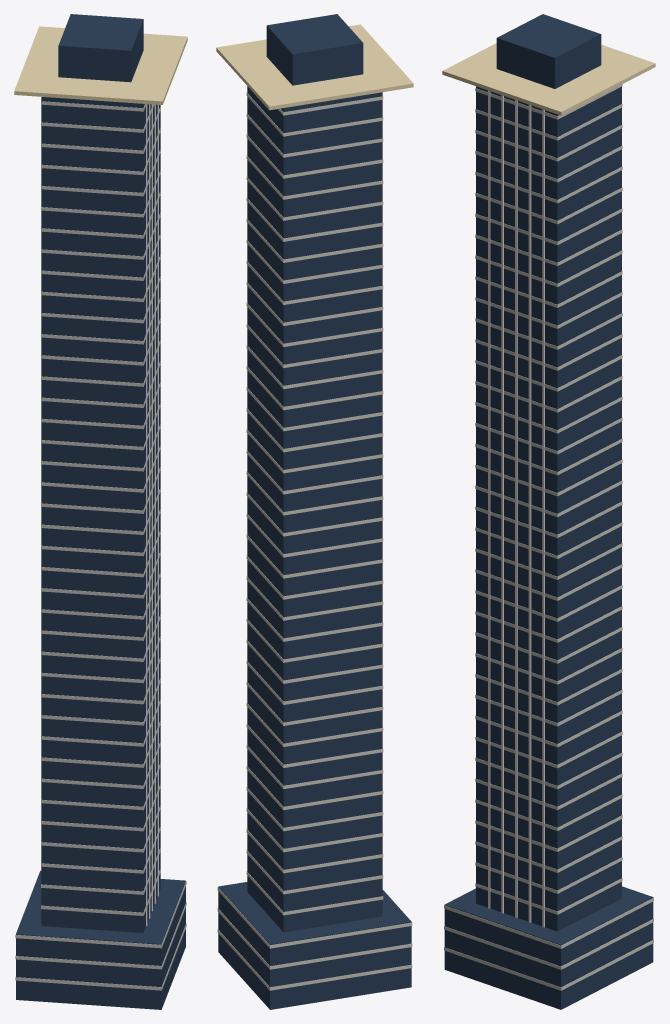
Rendered from mbk-tower.glb.
3 views of the same model, side by side, from view 1: azimuth 30°, elevation 25°; view 2: azimuth 150°, elevation 25°; view 3: azimuth 270°, elevation 25° (orthographic).
Parts seen in each view (by area): view 1: B_532853124_mbk-tower, B_532853124_mbk-tower_gold, mullion.025, mullion.026, mullion.028, mullion.029, mullion.027, band.456, band.455, band.454, band.467, band.473 (+37 smaller); view 2: B_532853124_mbk-tower, B_532853124_mbk-tower_gold, band.455, band.454, band.456, band.460, band.459, band.461, band.475, band.478, band.479, band.465 (+31 smaller); view 3: B_532853124_mbk-tower, B_532853124_mbk-tower_gold, mullion.028, mullion.026, mullion.025, mullion.029, mullion.027, band.454, band.455, band.456, band.475, band.460 (+36 smaller).
Part boxes in pixels (bbox=[...]): B_532853124_mbk-tower: bbox=[16, 14, 185, 1009]; B_532853124_mbk-tower_gold: bbox=[14, 26, 187, 104]; mullion.025: bbox=[146, 104, 147, 926]; mullion.026: bbox=[149, 104, 150, 918]; mullion.028: bbox=[154, 104, 155, 903]; mullion.029: bbox=[157, 105, 158, 896]; mullion.027: bbox=[151, 104, 152, 911]; band.456: bbox=[15, 881, 186, 948]; band.455: bbox=[15, 902, 186, 969]; band.454: bbox=[15, 923, 186, 990]; band.467: bbox=[41, 656, 160, 704]; band.473: bbox=[41, 529, 160, 577]; B_532853124_mbk-tower: bbox=[218, 14, 411, 1009]; B_532853124_mbk-tower_gold: bbox=[216, 24, 413, 110]; band.455: bbox=[217, 908, 412, 969]; band.454: bbox=[217, 929, 412, 990]; band.456: bbox=[217, 887, 412, 948]; band.460: bbox=[246, 808, 383, 852]; band.459: bbox=[246, 829, 383, 873]; band.461: bbox=[246, 787, 383, 831]; band.475: bbox=[246, 492, 383, 536]; band.478: bbox=[246, 429, 383, 473]; band.479: bbox=[246, 408, 383, 452]; band.465: bbox=[246, 703, 383, 746]; B_532853124_mbk-tower: bbox=[444, 14, 653, 1009]; B_532853124_mbk-tower_gold: bbox=[442, 43, 655, 115]; mullion.028: bbox=[528, 104, 531, 922]; mullion.026: bbox=[501, 95, 503, 913]; mullion.025: bbox=[488, 90, 490, 908]; mullion.029: bbox=[542, 109, 544, 927]; mullion.027: bbox=[515, 100, 517, 917]; band.454: bbox=[444, 939, 653, 990]; band.455: bbox=[444, 918, 653, 969]; band.456: bbox=[444, 897, 653, 948]; band.475: bbox=[475, 501, 622, 538]; band.460: bbox=[475, 815, 622, 851].
Size of the model in its own units: 41.41 by 200 by 41.54.
